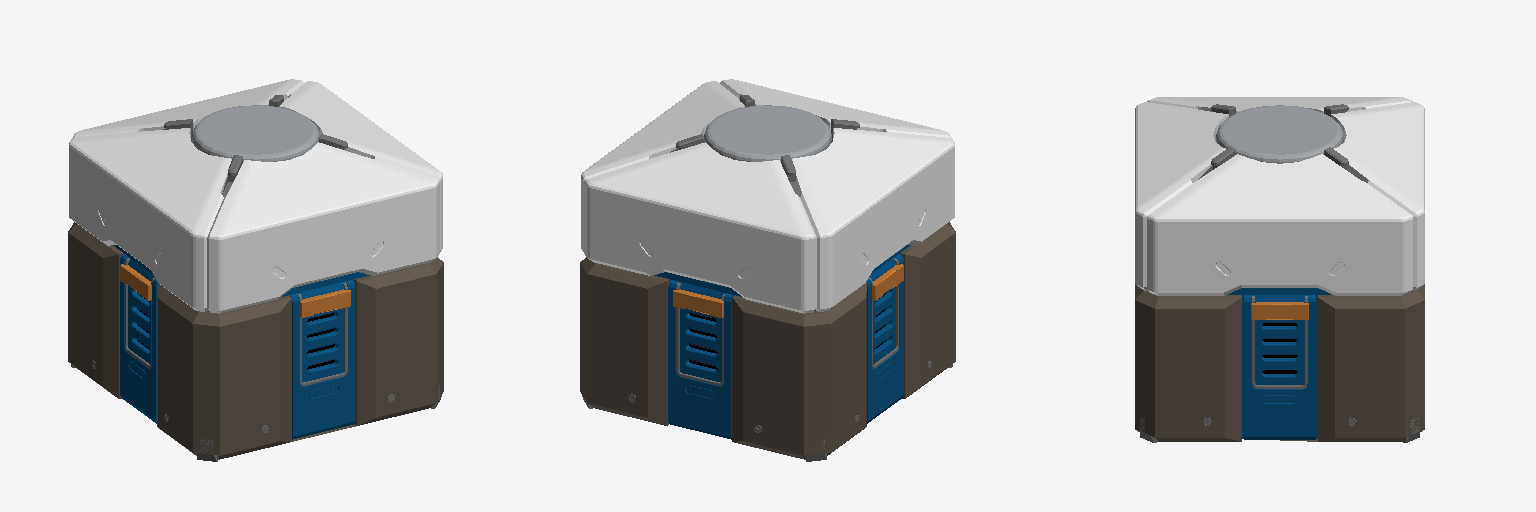
3 renders of one model, left to right at view 1: azimuth 30°, elevation 25°; view 2: azimuth 150°, elevation 25°; view 3: azimuth 270°, elevation 25°, orthographic.
Visible parts, largest first — view 1: Mesh4 Overwatch_Lootbox_Level_1_2 Model, Mesh13 Overwatch_Lootbox_Level_2_1 Model, Mesh14 Overwatch_Lootbox_Level_2_2 Model, Mesh6 Overwatch_Lootbox_Level_1_3 Model, Mesh12 Overwatch_Lootbox_Coin1 Model, Mesh11 Overwatch_Lootbox_Level_2_Napis1 Model, Mesh15 Overwatch_Lootbox_Level_2_3 Model, Mesh9 Overwatch_Lootbox_Level_1_4 Model, Mesh3 Overwatch_Lootbox_Level_1_OranzovaLista2 Overwatch_Lootbox, Mesh5 Overwatch_Lootbox_Level_1_OranzovaLista3 Overwatch_Lootbox; view 2: Mesh2 Overwatch_Lootbox_Level_1_1 Model, Mesh15 Overwatch_Lootbox_Level_2_3 Model, Mesh6 Overwatch_Lootbox_Level_1_3 Model, Mesh14 Overwatch_Lootbox_Level_2_2 Model, Mesh12 Overwatch_Lootbox_Coin1 Model, Mesh11 Overwatch_Lootbox_Level_2_Napis1 Model, Mesh13 Overwatch_Lootbox_Level_2_1 Model, Mesh1 Overwatch_Lootbox_Level_1_OranzovaLista1 Overwatch_Lootbox, Mesh5 Overwatch_Lootbox_Level_1_OranzovaLista3 Overwatch_Lootbox; view 3: Mesh9 Overwatch_Lootbox_Level_1_4 Model, Mesh11 Overwatch_Lootbox_Level_2_Napis1 Model, Mesh15 Overwatch_Lootbox_Level_2_3 Model, Mesh13 Overwatch_Lootbox_Level_2_1 Model, Mesh12 Overwatch_Lootbox_Coin1 Model, Mesh2 Overwatch_Lootbox_Level_1_1 Model, Mesh14 Overwatch_Lootbox_Level_2_2 Model, Mesh8 Overwatch_Lootbox_Level_1_OranzovaLista4 Overwatch_Lootbox.
Boxes of the visible parts, <box> form: Mesh4 Overwatch_Lootbox_Level_1_2 Model: <box>193,263,436,461</box>; Mesh13 Overwatch_Lootbox_Level_2_1 Model: <box>207,142,439,313</box>; Mesh14 Overwatch_Lootbox_Level_2_2 Model: <box>69,128,231,311</box>; Mesh6 Overwatch_Lootbox_Level_1_3 Model: <box>68,222,199,454</box>; Mesh12 Overwatch_Lootbox_Coin1 Model: <box>192,105,319,161</box>; Mesh11 Overwatch_Lootbox_Level_2_Napis1 Model: <box>279,81,442,251</box>; Mesh15 Overwatch_Lootbox_Level_2_3 Model: <box>73,79,303,137</box>; Mesh9 Overwatch_Lootbox_Level_1_4 Model: <box>428,257,443,408</box>; Mesh3 Overwatch_Lootbox_Level_1_OranzovaLista2 Overwatch_Lootbox: <box>300,289,350,317</box>; Mesh5 Overwatch_Lootbox_Level_1_OranzovaLista3 Overwatch_Lootbox: <box>120,264,151,300</box>; Mesh2 Overwatch_Lootbox_Level_1_1 Model: <box>580,257,804,459</box>; Mesh15 Overwatch_Lootbox_Level_2_3 Model: <box>584,142,816,313</box>; Mesh6 Overwatch_Lootbox_Level_1_3 Model: <box>804,224,955,461</box>; Mesh14 Overwatch_Lootbox_Level_2_2 Model: <box>792,128,954,311</box>; Mesh12 Overwatch_Lootbox_Coin1 Model: <box>704,105,831,161</box>; Mesh11 Overwatch_Lootbox_Level_2_Napis1 Model: <box>581,81,744,251</box>; Mesh13 Overwatch_Lootbox_Level_2_1 Model: <box>720,79,950,137</box>; Mesh1 Overwatch_Lootbox_Level_1_OranzovaLista1 Overwatch_Lootbox: <box>673,289,723,317</box>; Mesh5 Overwatch_Lootbox_Level_1_OranzovaLista3 Overwatch_Lootbox: <box>872,264,903,300</box>; Mesh9 Overwatch_Lootbox_Level_1_4 Model: <box>1135,291,1404,442</box>; Mesh11 Overwatch_Lootbox_Level_2_Napis1 Model: <box>1147,154,1412,295</box>; Mesh15 Overwatch_Lootbox_Level_2_3 Model: <box>1331,102,1424,290</box>; Mesh13 Overwatch_Lootbox_Level_2_1 Model: <box>1135,102,1228,290</box>; Mesh12 Overwatch_Lootbox_Coin1 Model: <box>1216,105,1343,163</box>; Mesh2 Overwatch_Lootbox_Level_1_1 Model: <box>1401,284,1424,442</box>; Mesh14 Overwatch_Lootbox_Level_2_2 Model: <box>1147,97,1412,112</box>; Mesh8 Overwatch_Lootbox_Level_1_OranzovaLista4 Overwatch_Lootbox: <box>1251,302,1308,319</box>.
Size of the model in its own units: 100 by 97.46 by 100.
8 materials, 1 textured.